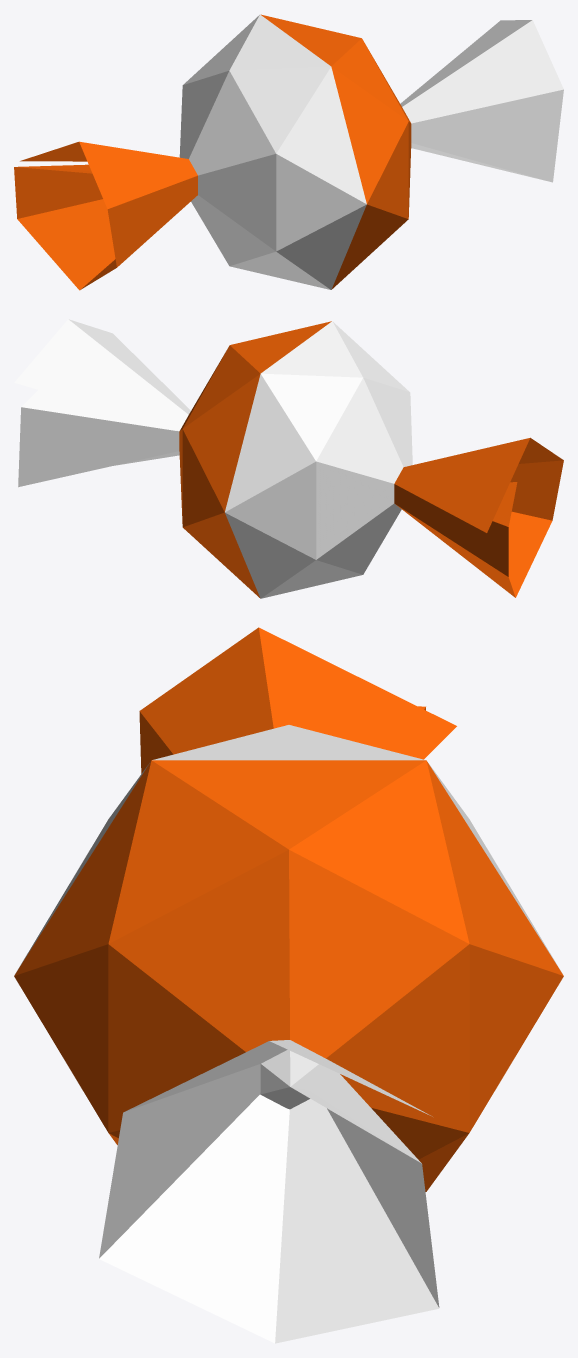
Rendered from candy_orange.fbx.
3 renders of one model, top to bottom at view 1: azimuth 30°, elevation 25°; view 2: azimuth 150°, elevation 25°; view 3: azimuth 270°, elevation 25°, orthographic. The views are drawn at different scales.
Parts seen in each view (by area): view 1: candy_orange; view 2: candy_orange; view 3: candy_orange.
Boxes of the visible parts, left/top/right/bottom form: candy_orange: left=14, top=14, right=563, bottom=290; candy_orange: left=14, top=319, right=563, bottom=598; candy_orange: left=14, top=627, right=563, bottom=1343.
Size of the model in its own units: 6.54 by 2.86 by 3.3.
